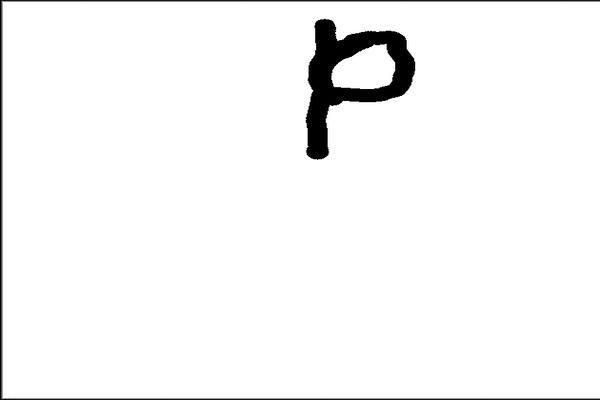P: (295, 13, 423, 164)
